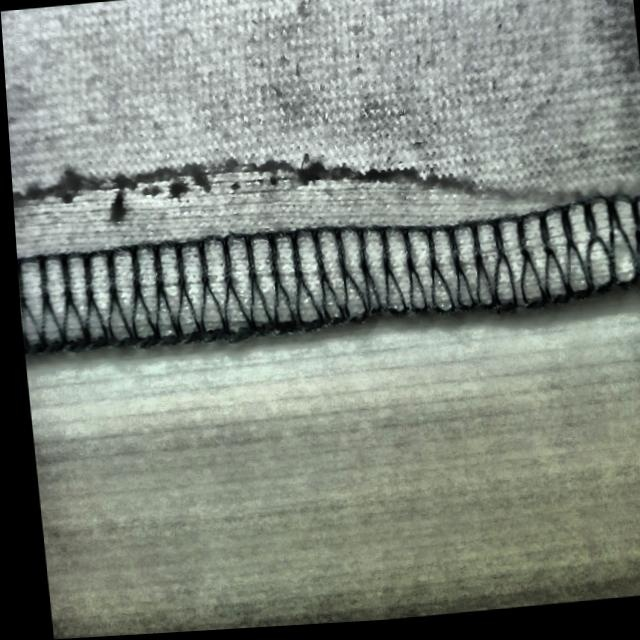seam: (6, 87, 583, 382)
